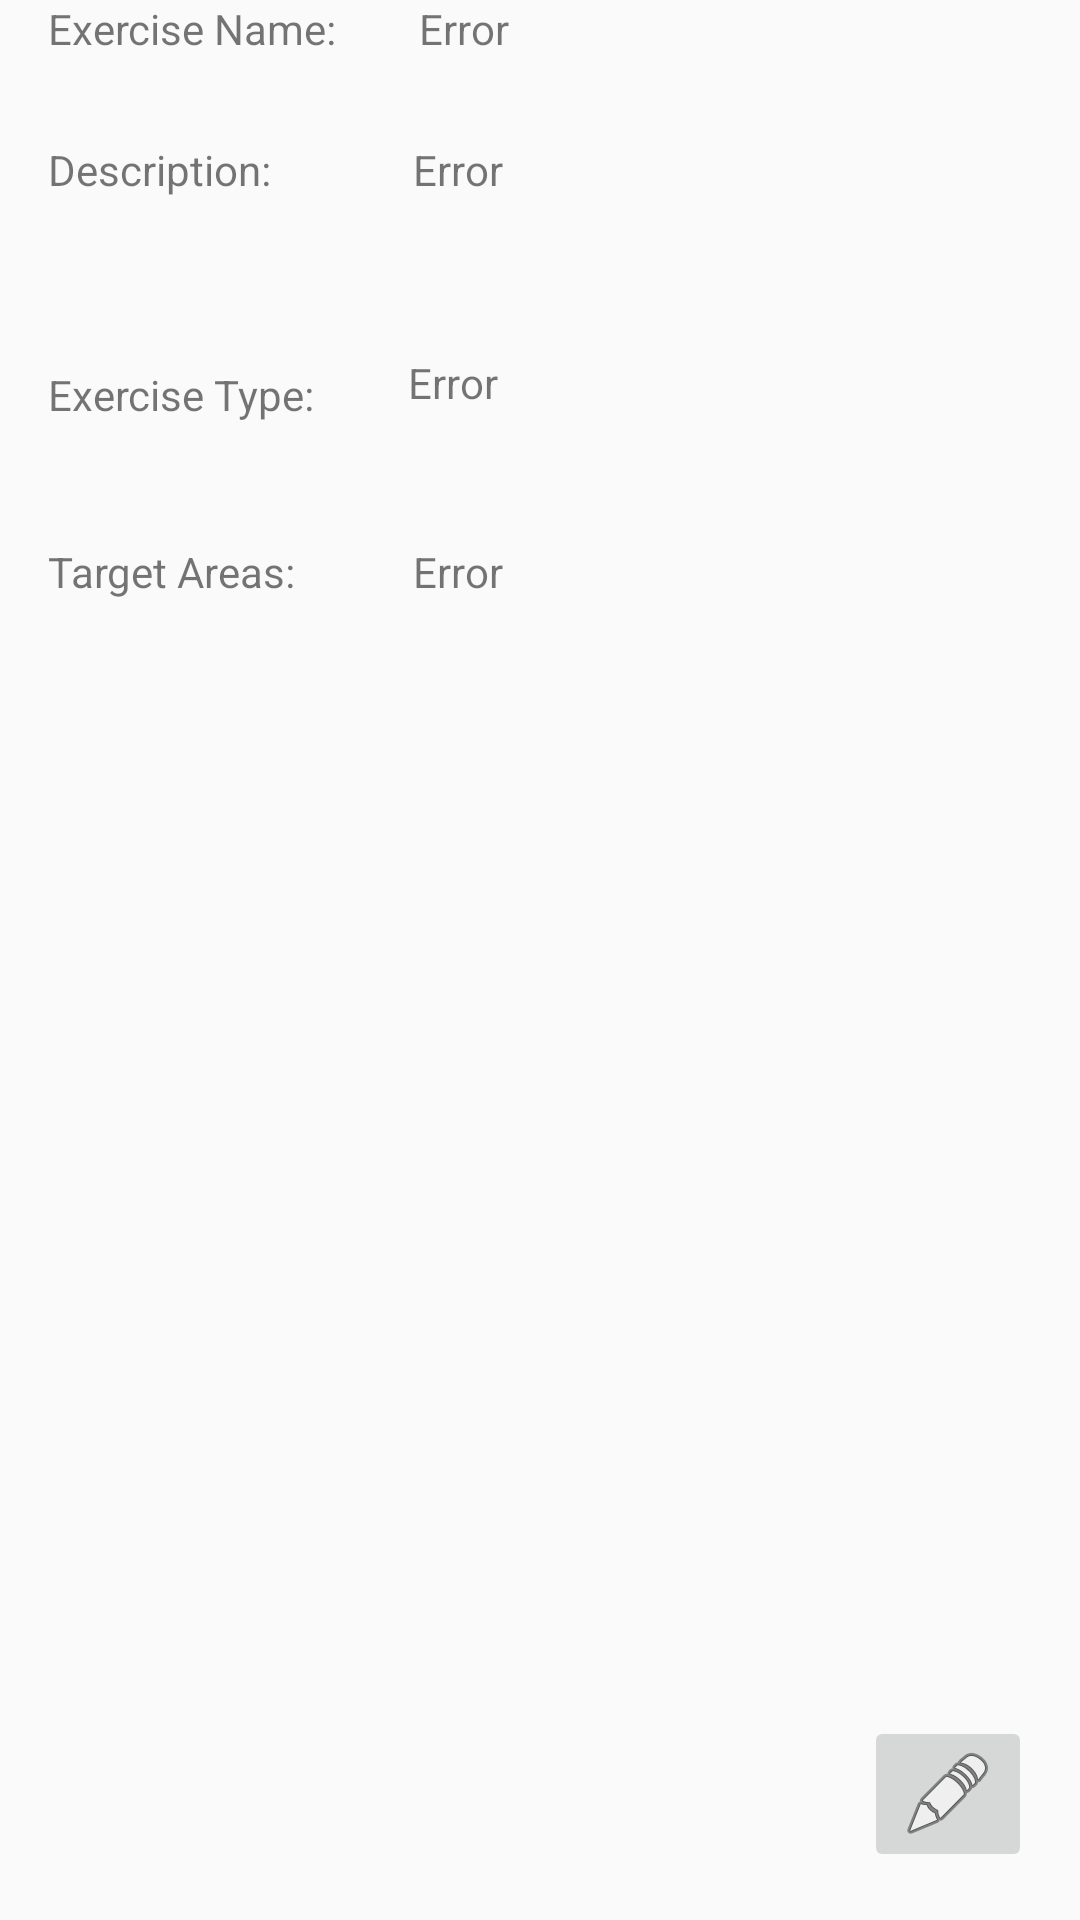

Named icons in this screenshot (1080w x 1920h) and their centers, (x=x, y=y):
edit: (x=948, y=1794)
